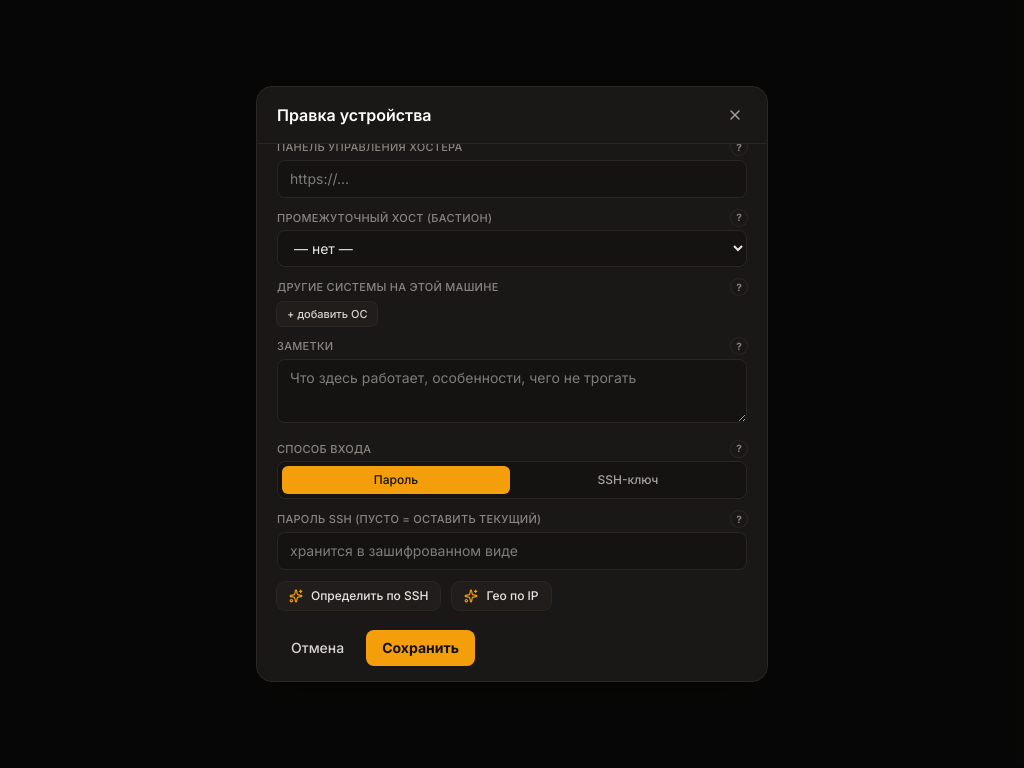
Test: форма устройства — кнопки-помощники › при правке с сохранённым секретом проба идёт по id — секрет остаётся в main
This screenshot has width=1024, height=768.
(page scrolled)
Click the button "Определить по SSH" at (359, 596), box [277,582,440,610]
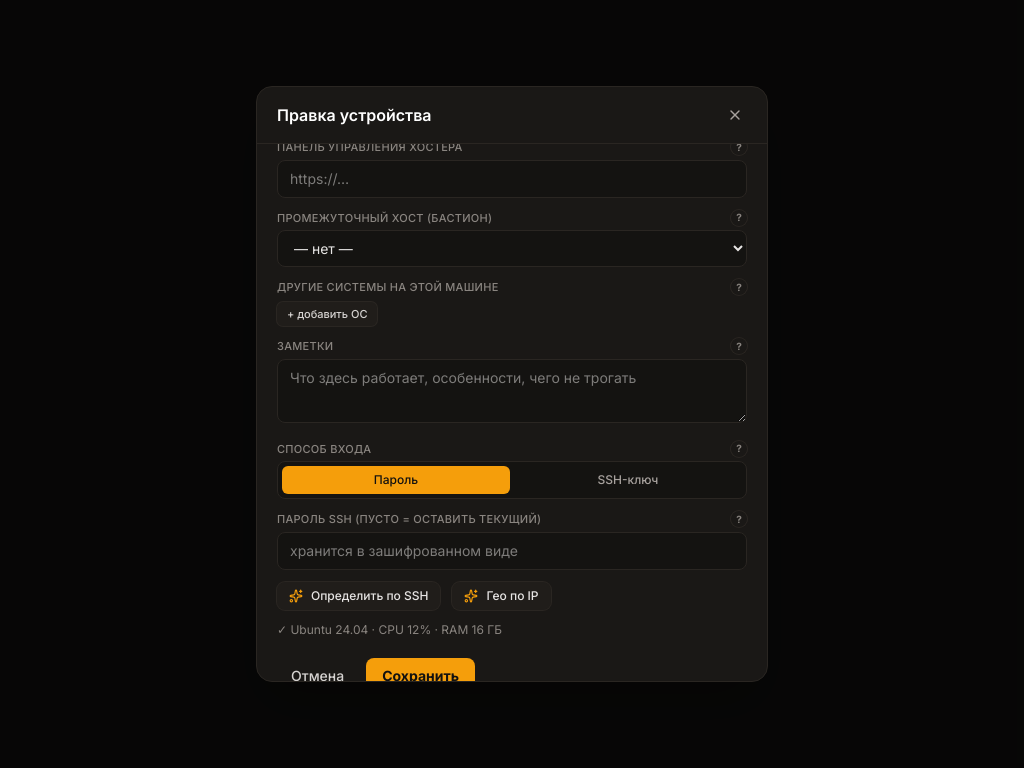
Expected: the text "✓ Ubuntu 24.04 · CPU 12% · RAM 16 ГБ" is shown, [277,622,502,638]
